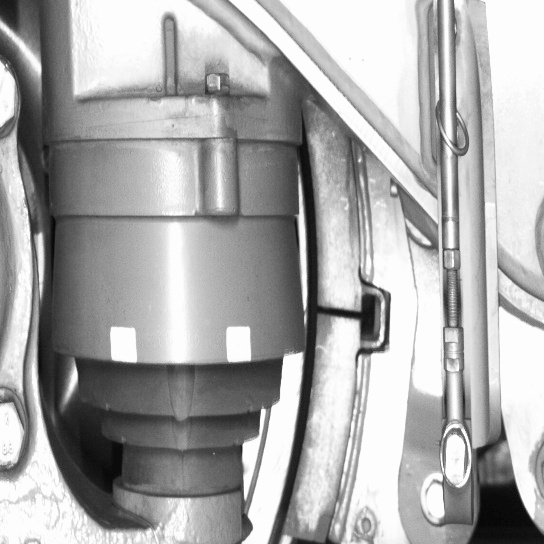KnifeSwitch: (238, 147, 375, 542)
